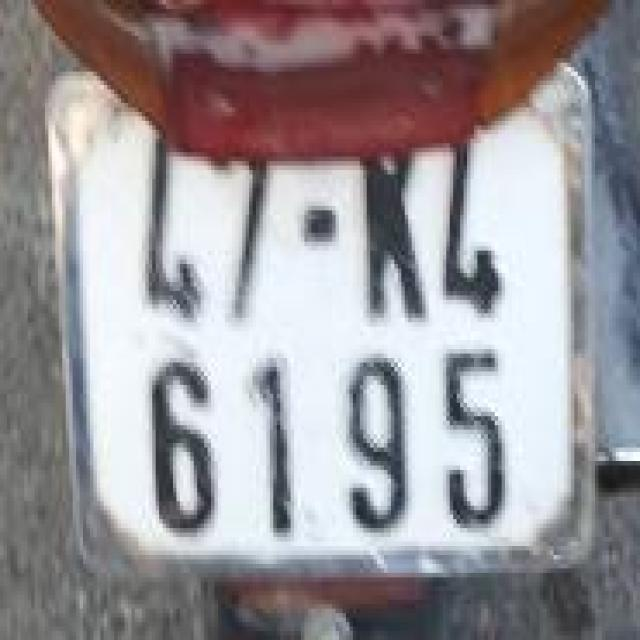1: (237, 344, 303, 560)
4: (131, 110, 211, 329), (439, 98, 508, 336)
5: (436, 338, 515, 544)
6: (140, 342, 223, 530)
7: (216, 123, 275, 316)
9: (330, 342, 420, 548)
K: (339, 110, 432, 329)
